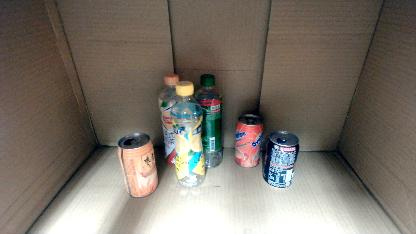Can: (119, 132, 162, 200), (262, 130, 300, 188), (233, 111, 264, 169)
Plastic Bottle: (170, 80, 208, 190), (192, 74, 224, 169), (158, 73, 184, 165)
